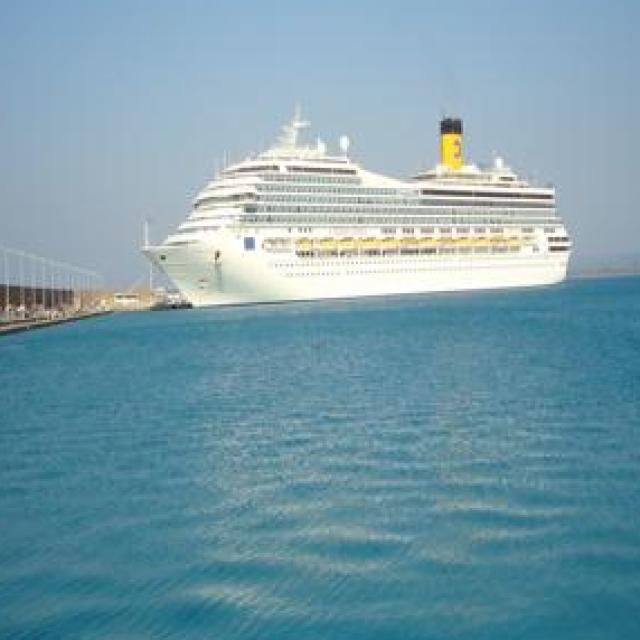passenger ship: (147, 98, 577, 310)
